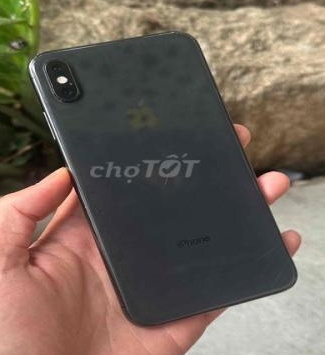scratch: (231, 229, 306, 297), (158, 161, 196, 203), (112, 36, 139, 55)
